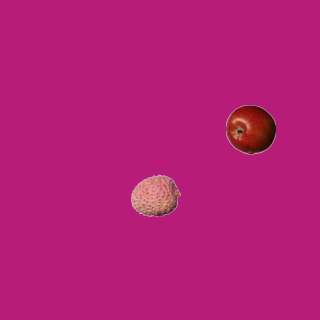Apple Braeburn: (225, 104, 275, 154)
Lychee: (130, 170, 180, 220)
